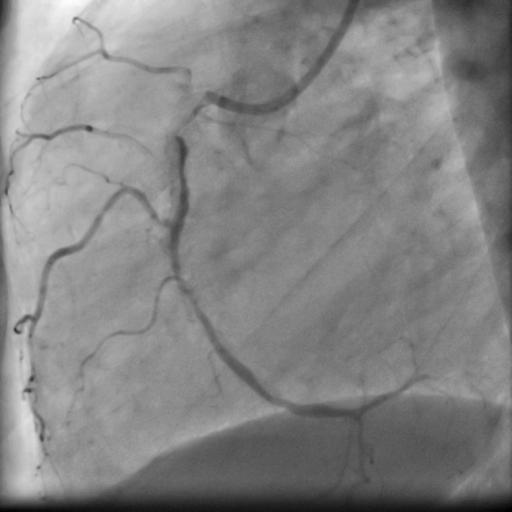Stenosis: (164, 115, 187, 141)
